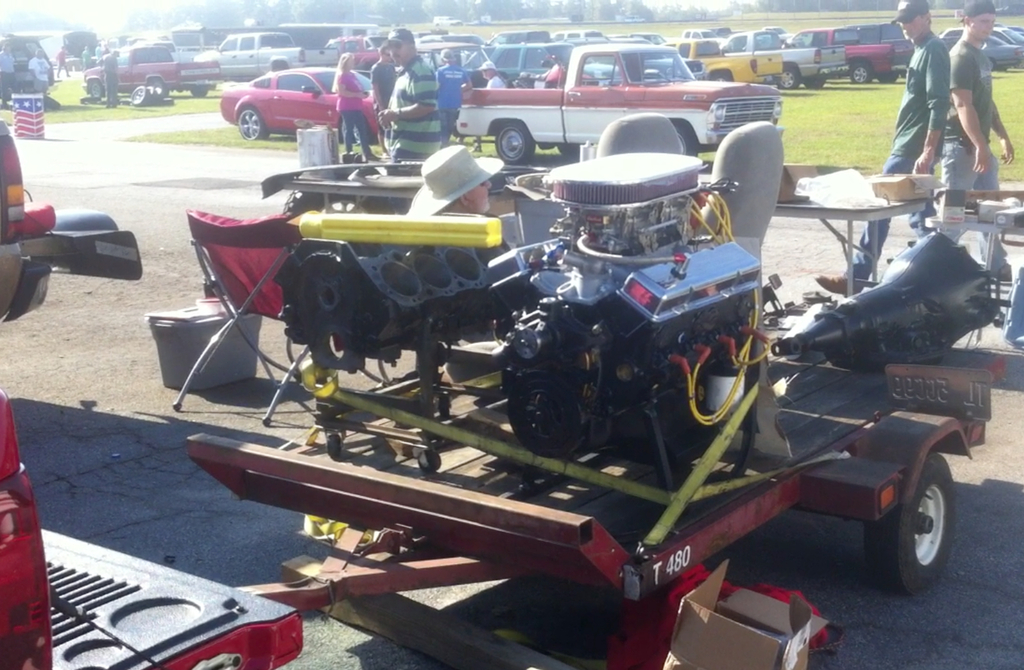Person: (0, 0, 1024, 298)
